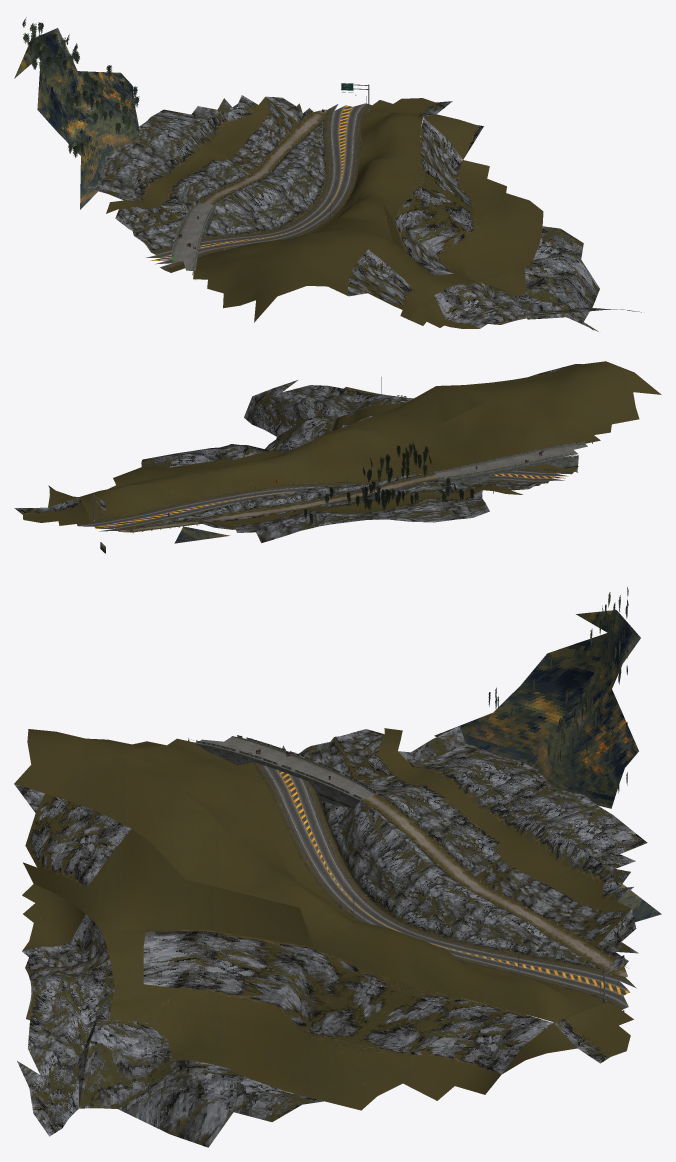
The model's file is world_camden_12_-14.gltf.
3 views of the same model, one above another, from view 1: azimuth 30°, elevation 25°; view 2: azimuth 150°, elevation 25°; view 3: azimuth 270°, elevation 25° (orthographic). The views are drawn at different scales.
Bounding box in the file's own units: 278 × 149 × 277.
36 materials, 36 textured.
